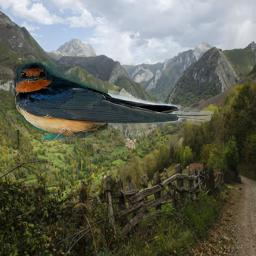Swallow: (9, 58, 214, 140)
